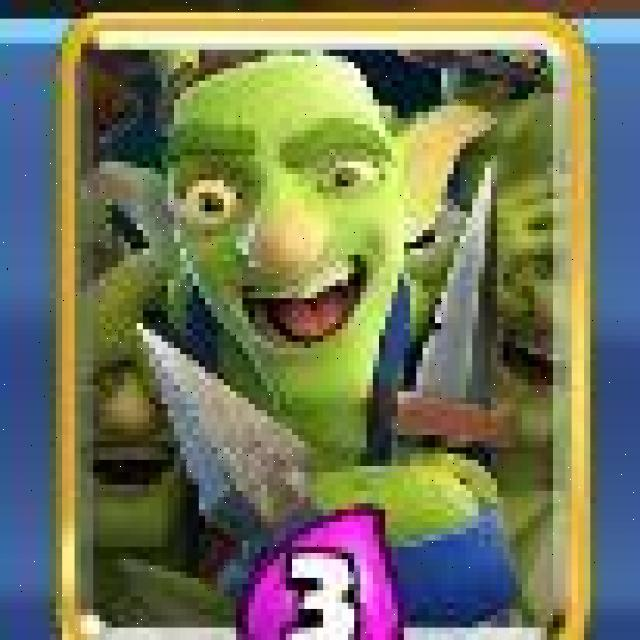Goblin_Gang: (51, 9, 588, 640)
